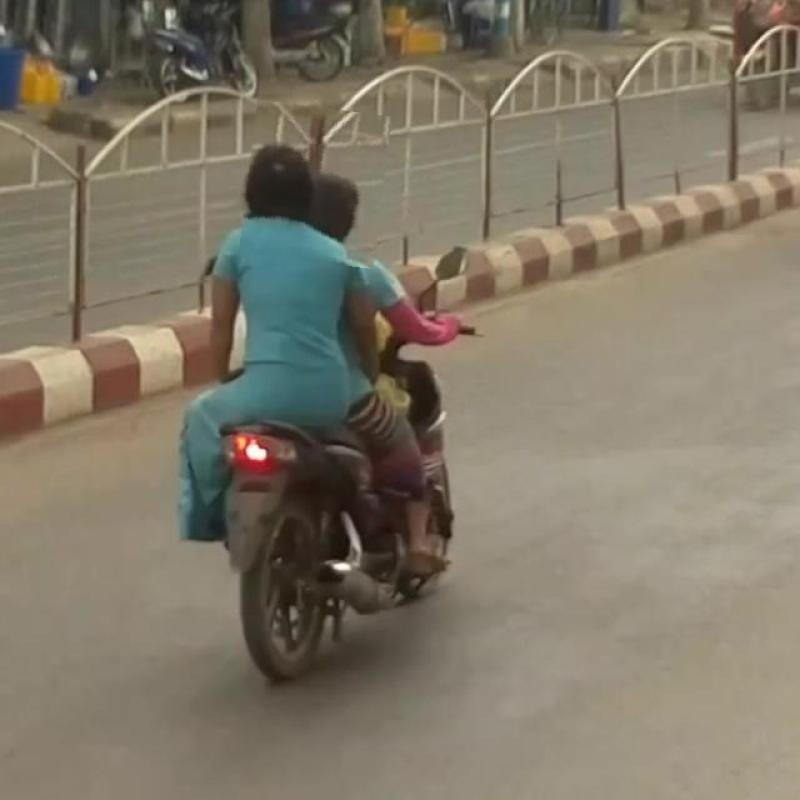nohelmet: (243, 103, 388, 266)
